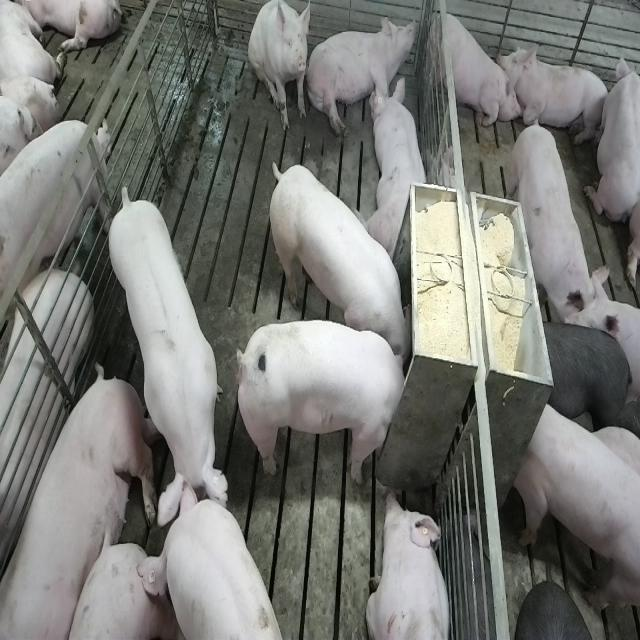Feeding: (263, 160, 412, 362), (232, 318, 408, 484)
Lateral_lying: (4, 367, 158, 640), (304, 13, 418, 137)
Sitting: (248, 2, 311, 134)
Standing: (105, 188, 227, 538), (0, 269, 91, 632), (514, 395, 638, 618), (0, 112, 108, 331), (511, 110, 606, 330), (151, 490, 285, 640), (542, 317, 636, 442)
Sternal_lying: (366, 489, 454, 640), (369, 73, 431, 260), (508, 42, 610, 146), (584, 44, 638, 226)
